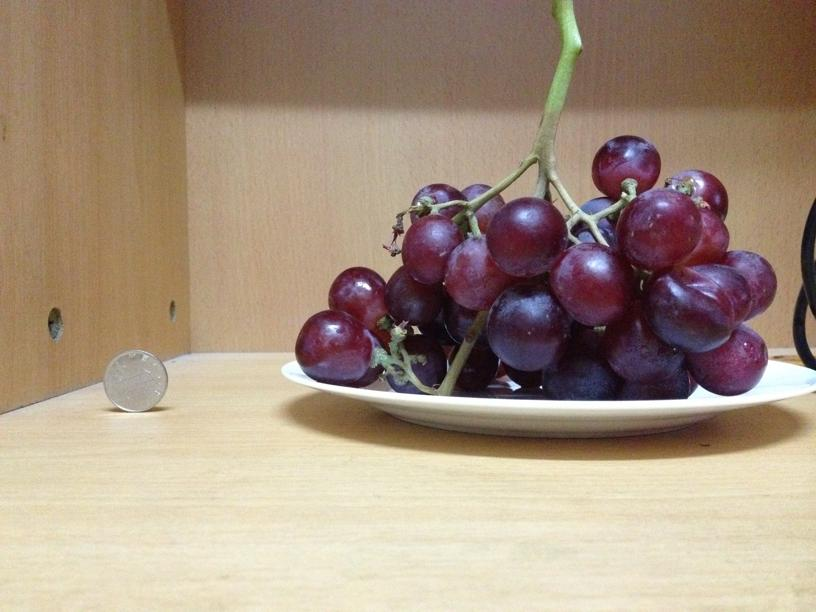coin: (102, 350, 167, 413)
grape: (287, 137, 778, 395)
